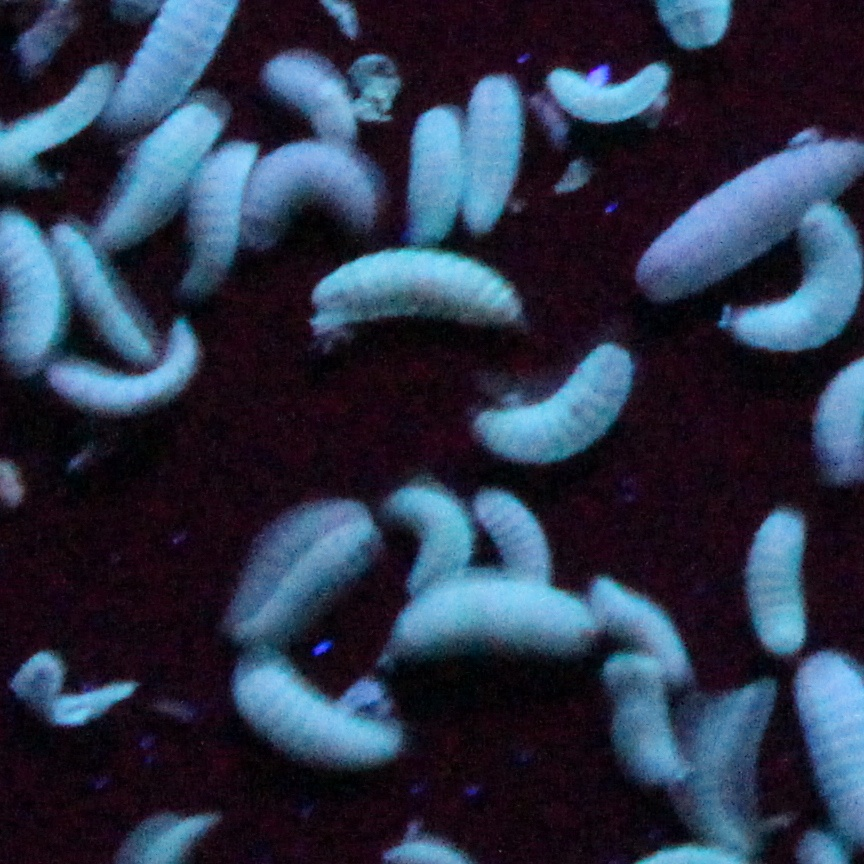larve: (737, 209, 862, 357), (231, 658, 398, 766), (241, 510, 373, 636), (100, 109, 216, 244), (483, 349, 631, 454), (318, 253, 517, 327), (394, 585, 595, 651), (243, 145, 374, 241), (65, 227, 149, 365), (690, 685, 762, 843), (600, 657, 684, 785), (463, 74, 524, 227), (184, 143, 247, 291), (385, 485, 471, 588), (58, 352, 202, 413), (597, 576, 686, 673), (404, 108, 463, 240), (17, 68, 109, 152), (270, 58, 356, 141), (471, 487, 548, 579), (551, 66, 671, 122), (755, 515, 802, 647)
